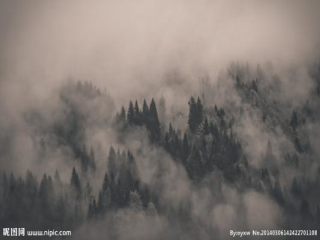smoke: (13, 13, 191, 179)
